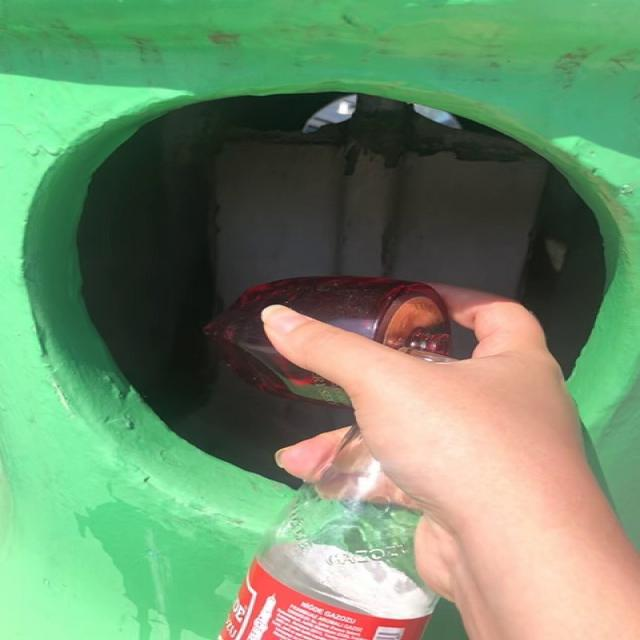glass: (220, 428, 439, 640), (205, 276, 451, 405)
